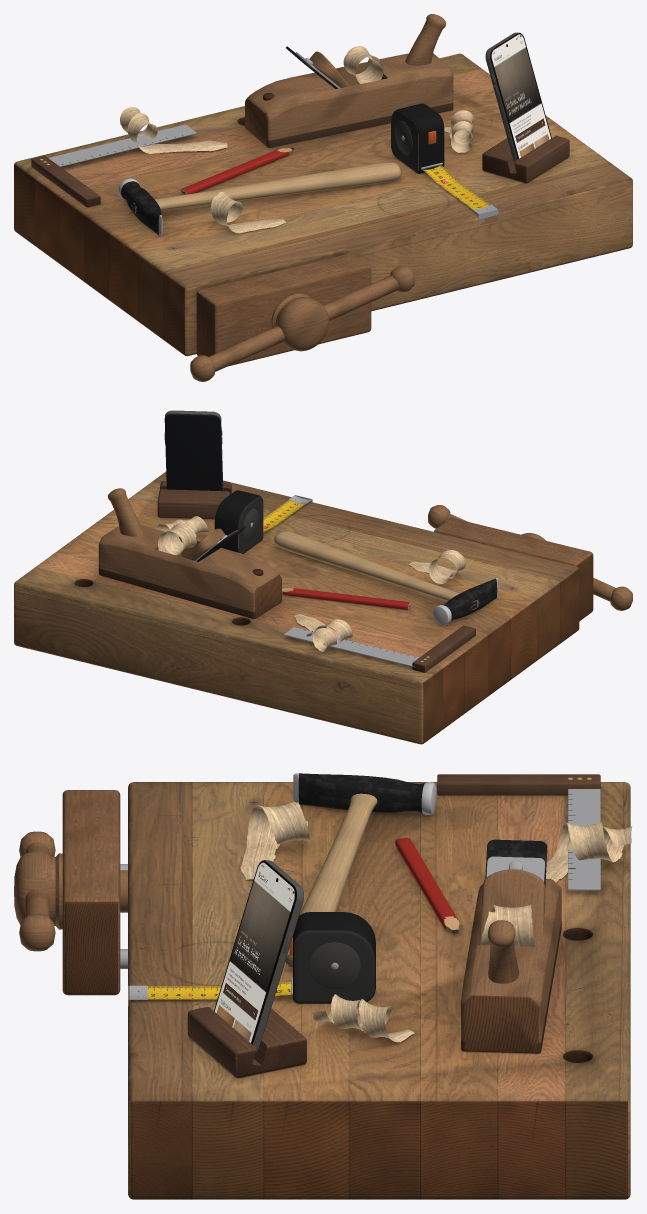
The model's file is etabli.glb.
3 views of the same model, one above another, from view 1: azimuth 30°, elevation 25°; view 2: azimuth 150°, elevation 25°; view 3: azimuth 270°, elevation 25° (orthographic). The views are drawn at different scales.
Visible parts, largest first — view 1: Bench_Top, Bench_Vise, Bench_Plane, Bench_Hammer, Bench_Tape, Bench_Screen, Bench_Square, Bench_Stand, Bench_Shaving1, Bench_Shaving3, Bench_Pencil, Bench_Phone (+2 smaller); view 2: Bench_Top, Bench_Plane, Bench_Vise, Bench_Phone, Bench_Hammer, Bench_Tape, Bench_Square, Bench_Stand, Bench_Shaving1, Bench_Pencil, Bench_Shaving3, Bench_Shaving0; view 3: Bench_Top, Bench_Vise, Bench_Plane, Bench_Tape, Bench_Hammer, Bench_Screen, Bench_Square, Bench_Stand, Bench_Shaving3, Bench_Shaving1, Bench_Phone, Bench_Shaving2 (+2 smaller).
Part boxes in pixels (x1,y1,x2,y2): Bench_Top: [14, 53, 632, 356]; Bench_Vise: [190, 253, 414, 381]; Bench_Plane: [245, 14, 453, 147]; Bench_Hammer: [118, 162, 401, 236]; Bench_Tape: [391, 103, 498, 225]; Bench_Screen: [491, 34, 550, 158]; Bench_Square: [31, 124, 196, 207]; Bench_Stand: [482, 135, 569, 183]; Bench_Shaving1: [120, 107, 227, 153]; Bench_Shaving3: [205, 192, 286, 233]; Bench_Pencil: [180, 147, 294, 194]; Bench_Phone: [485, 32, 551, 162]; Bench_Top: [14, 471, 579, 744]; Bench_Plane: [98, 488, 281, 618]; Bench_Vise: [428, 505, 632, 621]; Bench_Phone: [164, 410, 223, 491]; Bench_Hammer: [274, 531, 498, 625]; Bench_Tape: [214, 490, 312, 553]; Bench_Square: [283, 625, 475, 672]; Bench_Stand: [157, 481, 231, 519]; Bench_Shaving1: [294, 614, 352, 652]; Bench_Pencil: [282, 587, 410, 609]; Bench_Shaving3: [409, 550, 465, 583]; Bench_Shaving0: [158, 523, 197, 555]; Bench_Top: [128, 782, 630, 1199]; Bench_Vise: [14, 790, 127, 995]; Bench_Plane: [461, 839, 561, 1053]; Bench_Tape: [128, 912, 375, 1006]; Bench_Hammer: [285, 773, 436, 968]; Bench_Screen: [214, 862, 294, 1042]; Bench_Square: [437, 774, 600, 890]; Bench_Stand: [187, 1007, 306, 1077]; Bench_Shaving3: [240, 801, 310, 879]; Bench_Shaving1: [546, 822, 632, 882]; Bench_Phone: [214, 860, 303, 1054]; Bench_Shaving2: [312, 994, 414, 1042].
Size of the model in its own units: 2.11 by 0.8009 by 1.64.
27 materials, 13 textured.
